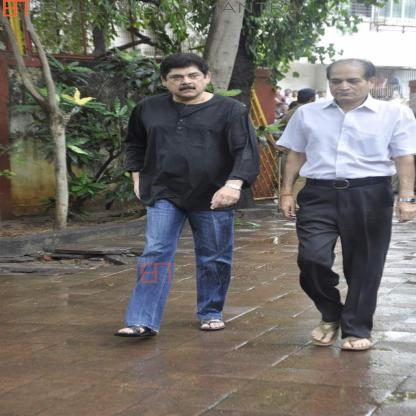face: (328, 71, 366, 101), (169, 68, 204, 95)
